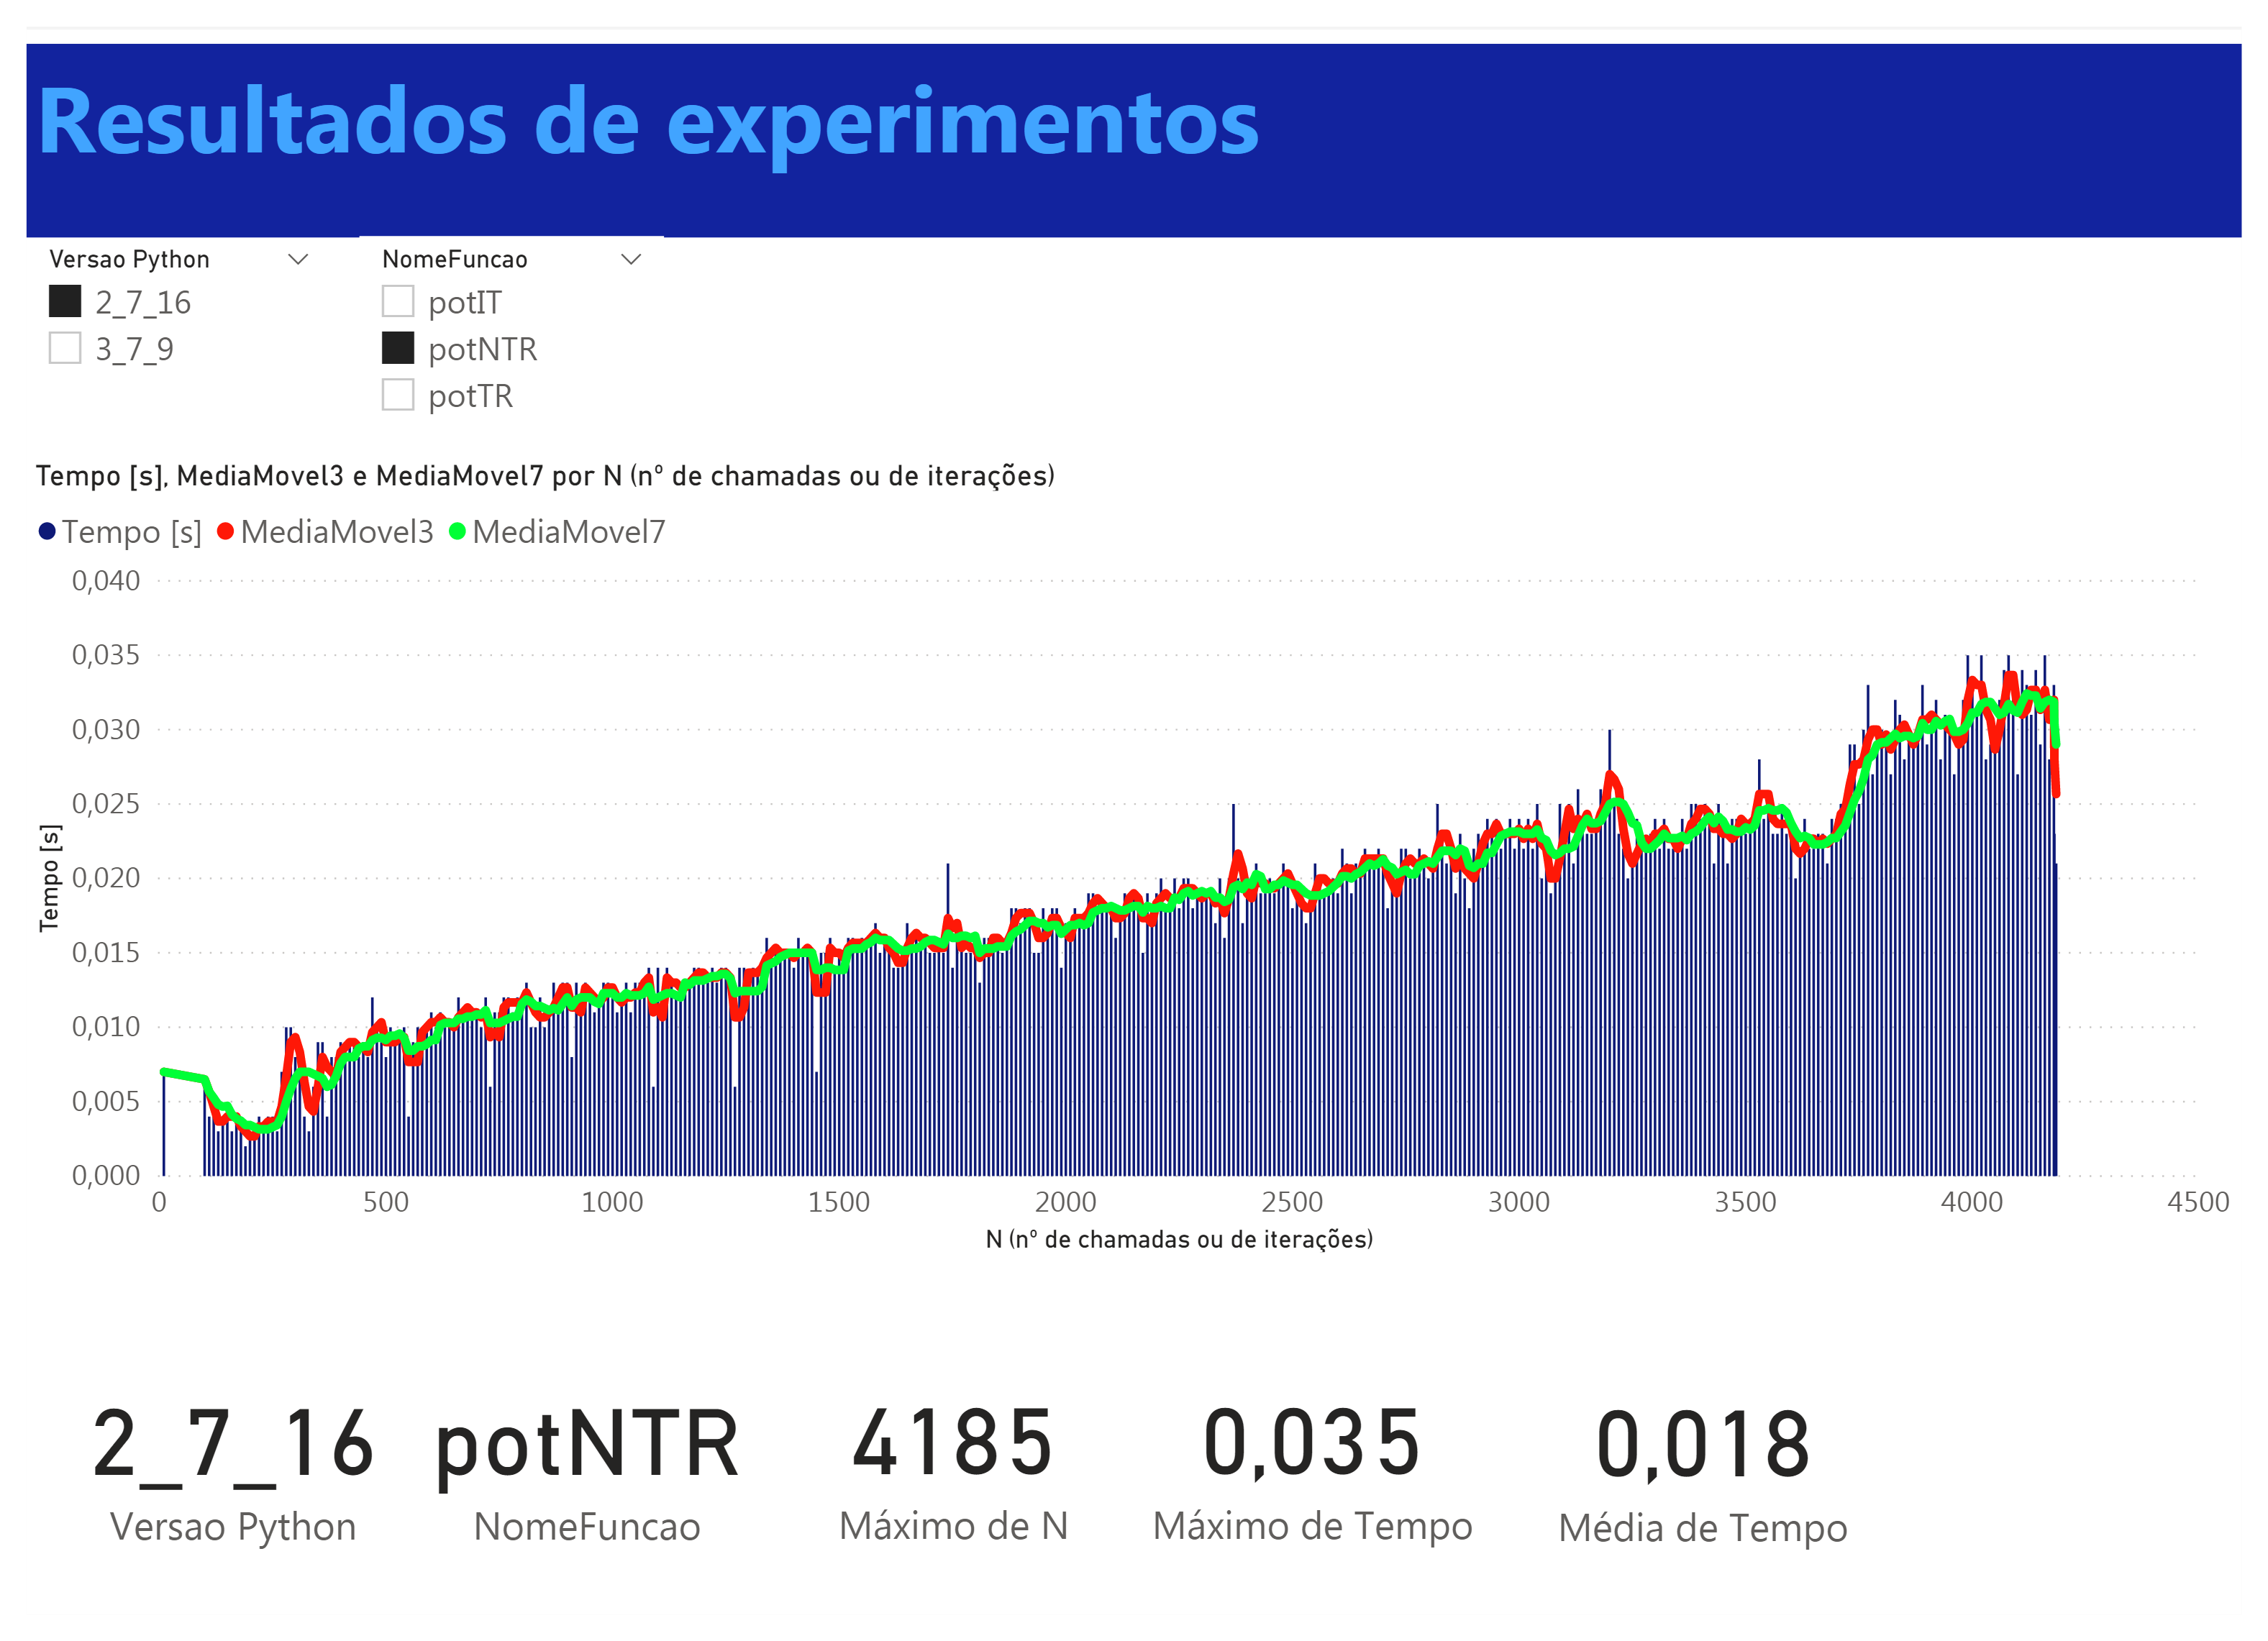

The page's visual inventory and layout, read from the dashboard file:
{"tool":"powerbi","page":{"name":"Potenciação","canvas":[1280,900],"ordinal":4},"visuals":[{"type":"lineClusteredColumnComboChart","fields":{"Category":["Tabela1.N"],"Y":["Sum(Tabela1.Tempo)"],"Y2":["Tabela1.MediaMovel3","Tabela1.MediaMovel7"]},"box":[0,240,1280,464],"z":0},{"type":"card","fields":{"Values":["Max(Tabela1.Tempo)"]},"box":[640,736,208,160],"z":1000},{"type":"card","fields":{"Values":["Min(Tabela1.NomeFuncao)"]},"box":[216,744,216,144],"z":2000},{"type":"card","fields":{"Values":["Max(Tabela1.N)"]},"box":[432,736,208,160],"z":3000},{"type":"card","fields":{"Values":["Avg(Tabela1.Tempo)"]},"box":[848,752,240,128],"z":4000},{"type":"slicer","fields":{"Values":["Tabela1.Versao Python"]},"box":[0,112,176,112],"z":5000},{"type":"card","fields":{"Values":["Min(Tabela1.Versao Python)"]},"box":[24,744,192,144],"z":6000},{"type":"textbox","box":[0,0,1280,112],"z":7000},{"type":"slicer","fields":{"Values":["Tabela1.NomeFuncao"]},"box":[192,112,176,112],"z":8000}]}

Visuals, with their boxes in screenshot pixels (x1, y1, x2, y2), scaled from the page's 1280x900 canvas onto the 2268x1641 screenshot:
lineClusteredColumnComboChart - Tabela1.N x Sum(Tabela1.Tempo): detection(0, 438, 2267, 1284)
card - Max(Tabela1.Tempo): detection(1134, 1342, 1503, 1634)
card - Min(Tabela1.NomeFuncao): detection(383, 1356, 765, 1619)
card - Max(Tabela1.N): detection(765, 1342, 1134, 1634)
card - Avg(Tabela1.Tempo): detection(1503, 1371, 1928, 1604)
slicer - Tabela1.Versao Python: detection(0, 204, 312, 408)
card - Min(Tabela1.Versao Python): detection(42, 1356, 383, 1619)
textbox: detection(0, 0, 2267, 204)
slicer - Tabela1.NomeFuncao: detection(340, 204, 652, 408)
